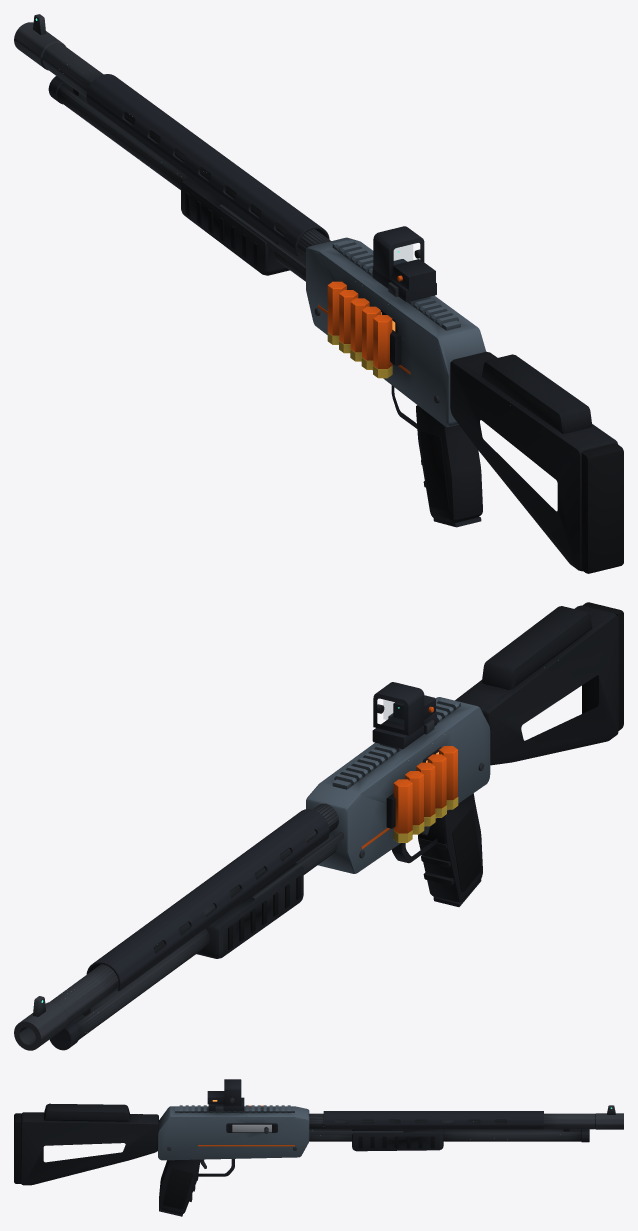
The model's file is breacher-12.glb.
The picture shows the model from 3 angles, top to bottom: view 1: azimuth 30°, elevation 25°; view 2: azimuth 150°, elevation 25°; view 3: azimuth 270°, elevation 25°; orthographic projection. The views are drawn at different scales.
Visible parts, largest first — view 1: body_polymer, body_frame2, body_frame, body_steel, body_rubber, body_accent, pump_furn, pump_rubber; view 2: body_polymer, body_frame2, body_frame, body_steel, body_accent, pump_furn, body_rubber, pump_rubber, body_brass, pump_steel; view 3: body_polymer, body_frame, body_frame2, body_steel, pump_furn, body_rubber, pump_rubber, bolt_bolt, pump_steel.
Boxes of the visible parts, x1,y1,x2,y2 form: body_polymer: (390, 330, 617, 571); body_frame2: (48, 74, 481, 527); body_frame: (306, 237, 485, 426); body_steel: (14, 14, 439, 403); body_rubber: (420, 431, 623, 573); body_accent: (318, 275, 410, 374); pump_furn: (180, 178, 289, 275); pump_rubber: (185, 192, 258, 266); body_polymer: (386, 605, 618, 902); body_frame2: (49, 682, 481, 1050); body_frame: (306, 697, 490, 873); body_steel: (14, 704, 484, 1050); body_accent: (361, 706, 457, 849); pump_furn: (196, 863, 303, 958); body_rubber: (452, 602, 623, 891); pump_rubber: (228, 875, 301, 949); body_brass: (393, 797, 458, 842); pump_steel: (251, 832, 343, 899); body_polymer: (21, 1103, 276, 1214); body_frame: (158, 1105, 309, 1160); body_frame2: (159, 1079, 589, 1216); body_steel: (167, 1097, 623, 1168); pump_furn: (352, 1129, 443, 1151); body_rubber: (14, 1113, 193, 1209); pump_rubber: (358, 1136, 434, 1148); bolt_bolt: (232, 1124, 271, 1132); pump_steel: (309, 1131, 403, 1134).
Bounding box in the file's own units: 0.0828 × 0.253 × 1.07.
